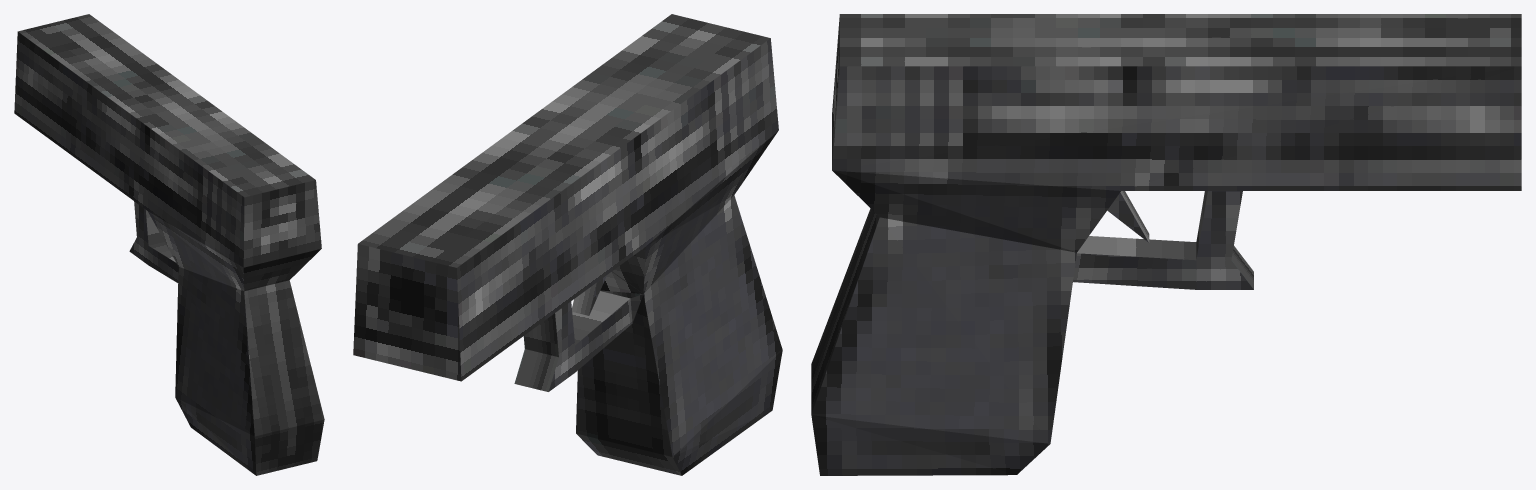
The model's file is glock.dae.
3 renders of one model, left to right at view 1: azimuth 30°, elevation 25°; view 2: azimuth 150°, elevation 25°; view 3: azimuth 270°, elevation 25°, orthographic. The views are drawn at different scales.
Visible parts, largest first — view 1: wrld_glock_wrld_glock_mesh; view 2: wrld_glock_wrld_glock_mesh; view 3: wrld_glock_wrld_glock_mesh.
Boxes of the visible parts, bbox=[...] form: wrld_glock_wrld_glock_mesh: bbox=[14, 14, 324, 475]; wrld_glock_wrld_glock_mesh: bbox=[353, 14, 782, 475]; wrld_glock_wrld_glock_mesh: bbox=[811, 14, 1521, 475].
Size of the model in its own units: 0.0537 by 0.2812 by 0.1806.
4 materials, 4 textured.
